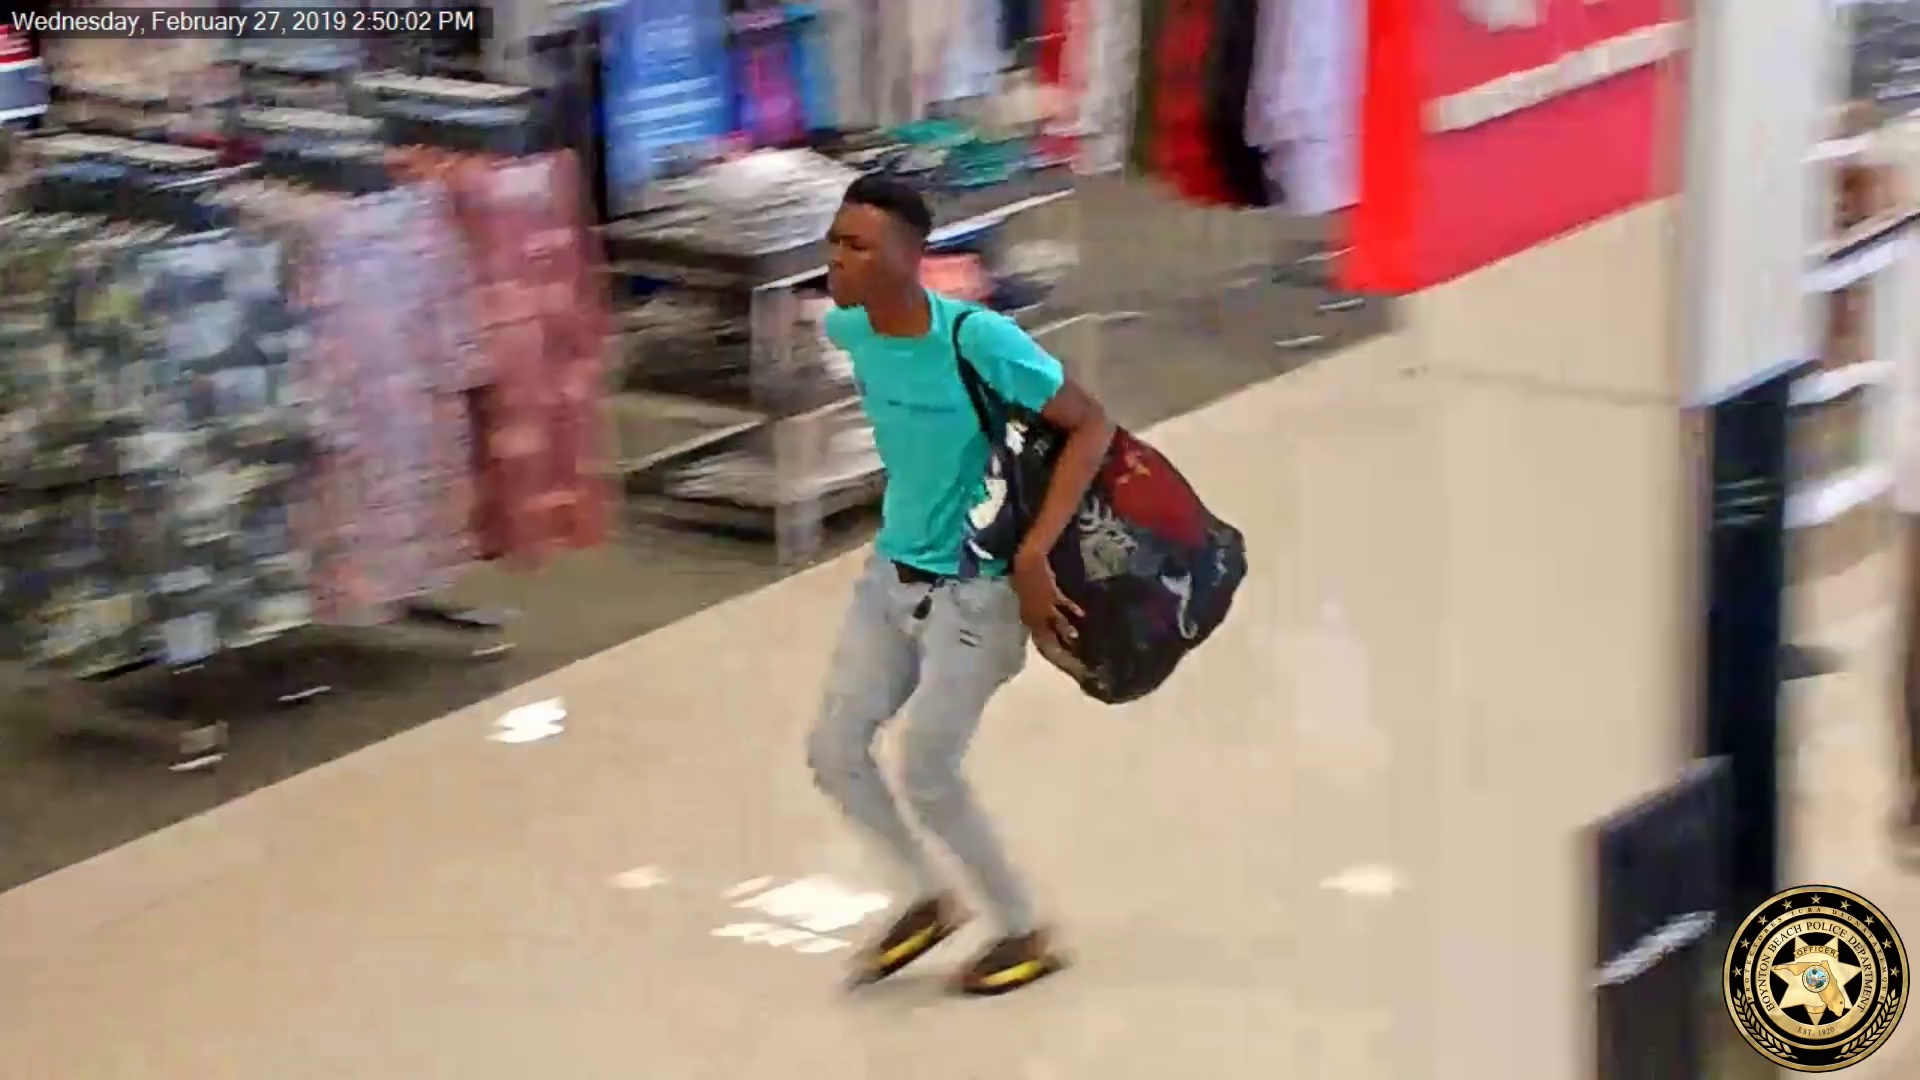face: (815, 198, 904, 319)
